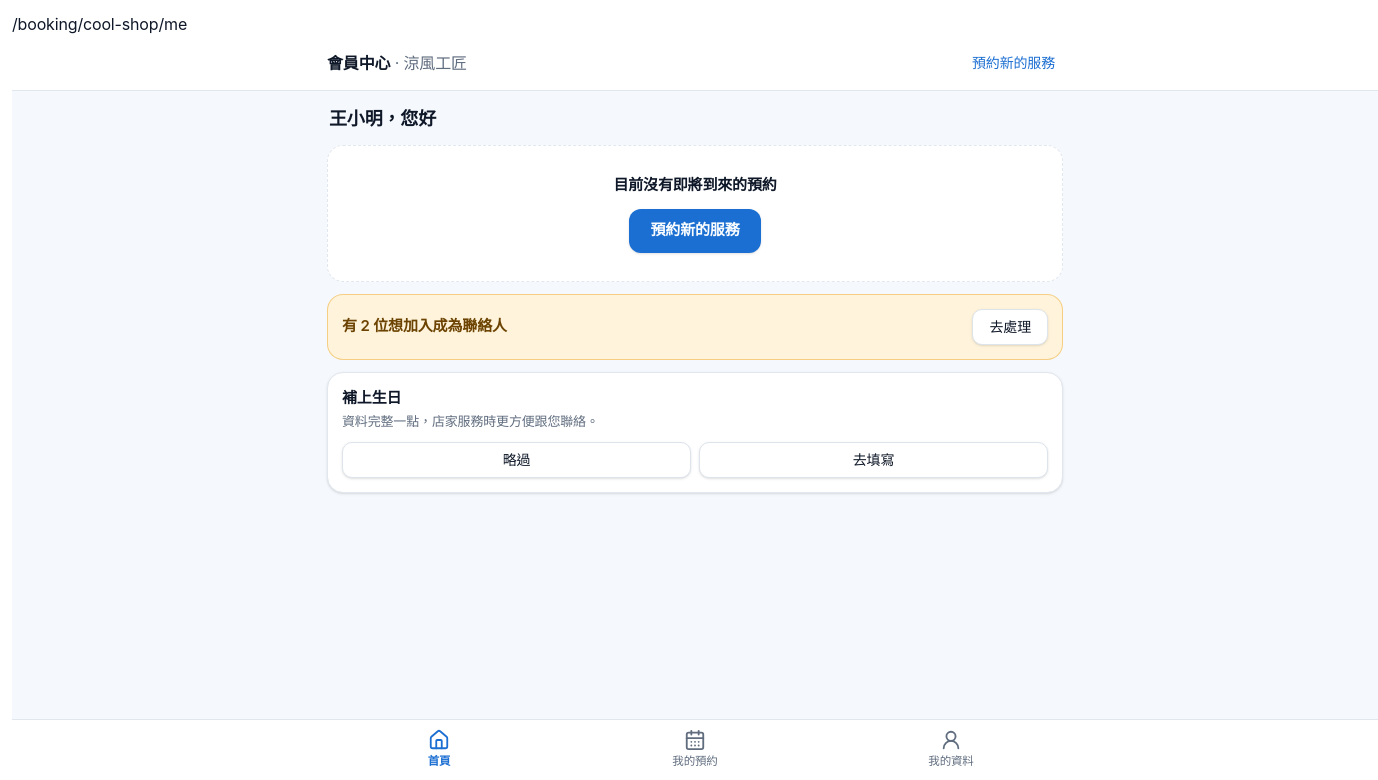
Scenario: C4-C02 首頁申請提示 › 主要聯絡人有待處理申請 ⇒ 黃色提示卡 +「去處理」到我的資料 · 聯絡人
Expected: the element with test id "member-home-requests" shows "有 2 位想加入成為聯絡人", [342,316,507,335]
Click the button with test id "member-home-requests-go" at (1010, 326), box [972,308,1048,344]
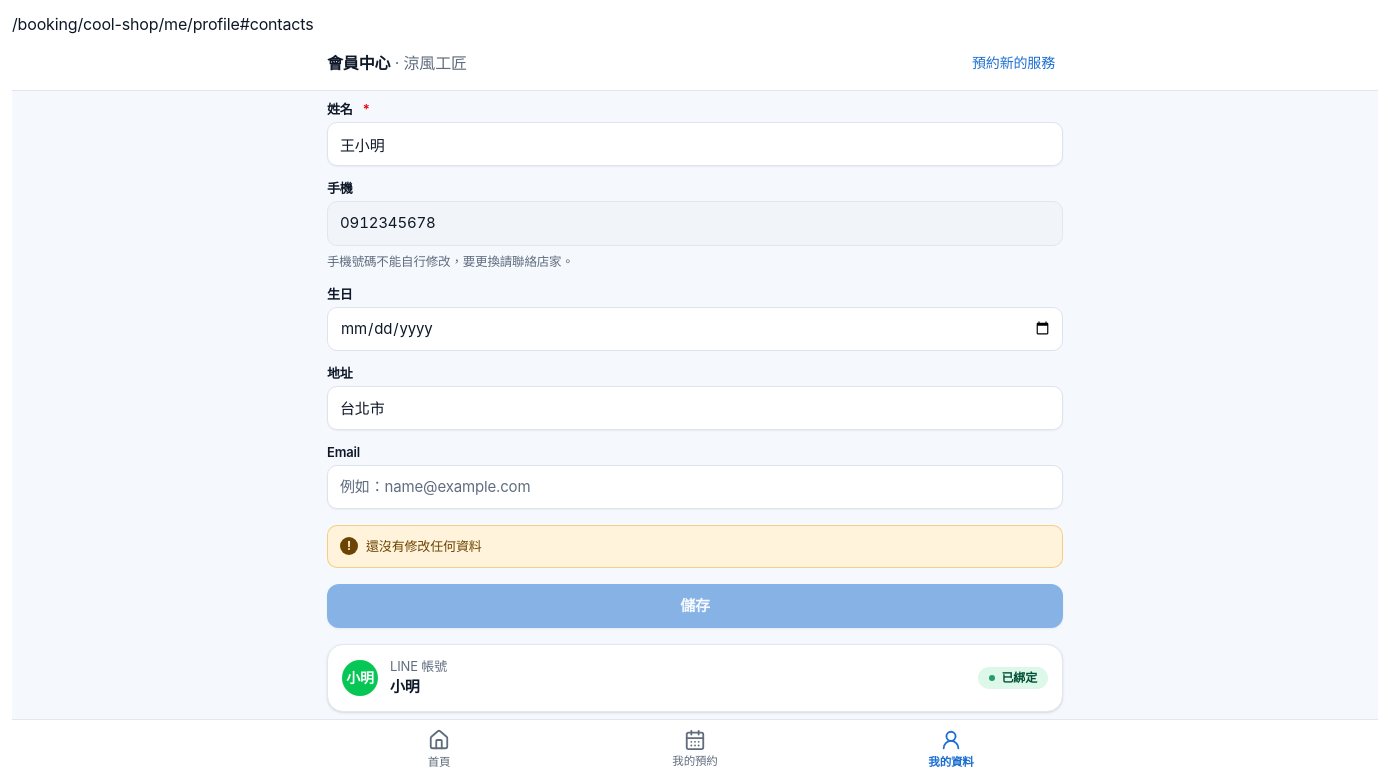
Expected: the text with test id "path-probe" reads "/booking/cool-shop/me/profile#contacts", [12,14,314,34]
